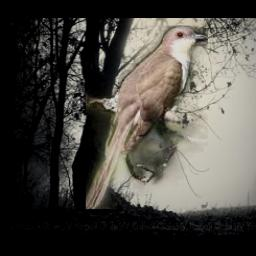Cuckoo: (85, 26, 207, 209)
